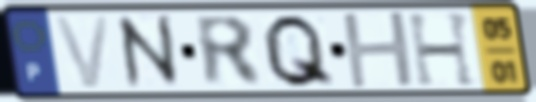H: (338, 9, 420, 92), (404, 10, 481, 89)
N: (112, 11, 186, 92)
Q: (259, 11, 339, 90)
R: (190, 13, 267, 90)
V: (49, 13, 114, 91)
